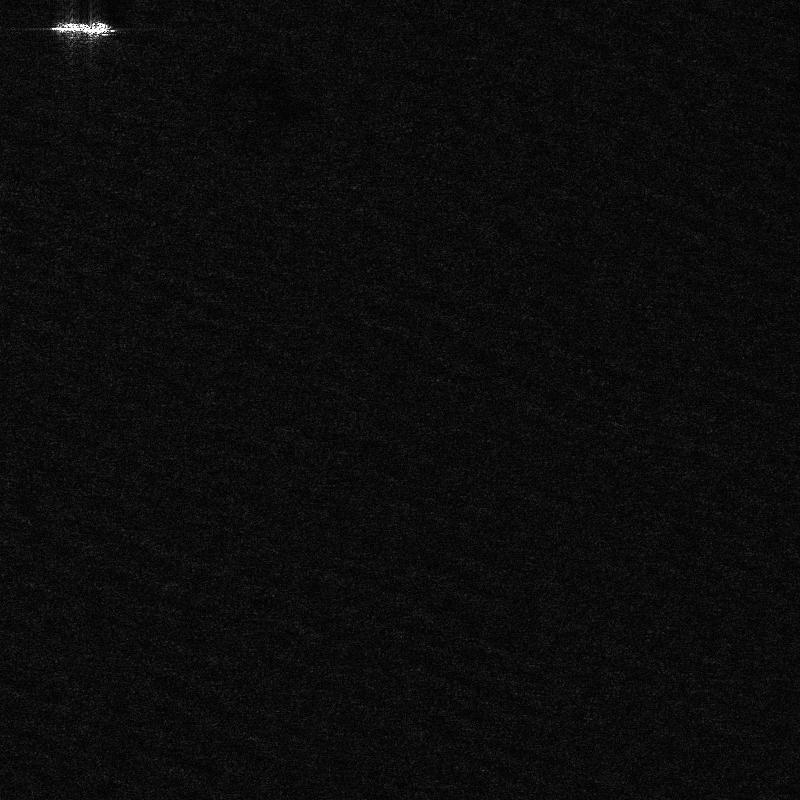ship: (50, 21, 115, 36)
